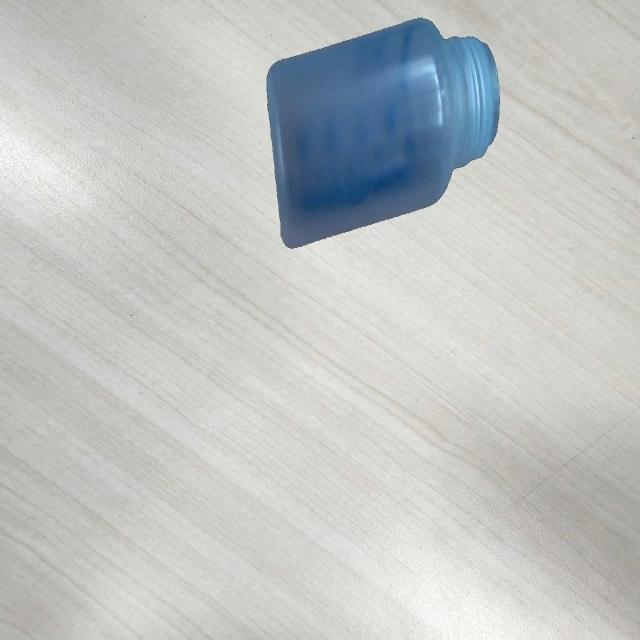bottle: (264, 17, 500, 251)
